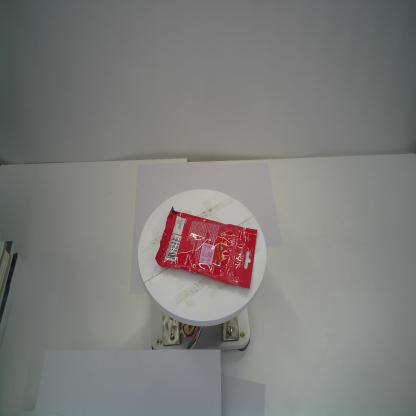Candy: (154, 202, 259, 290)
